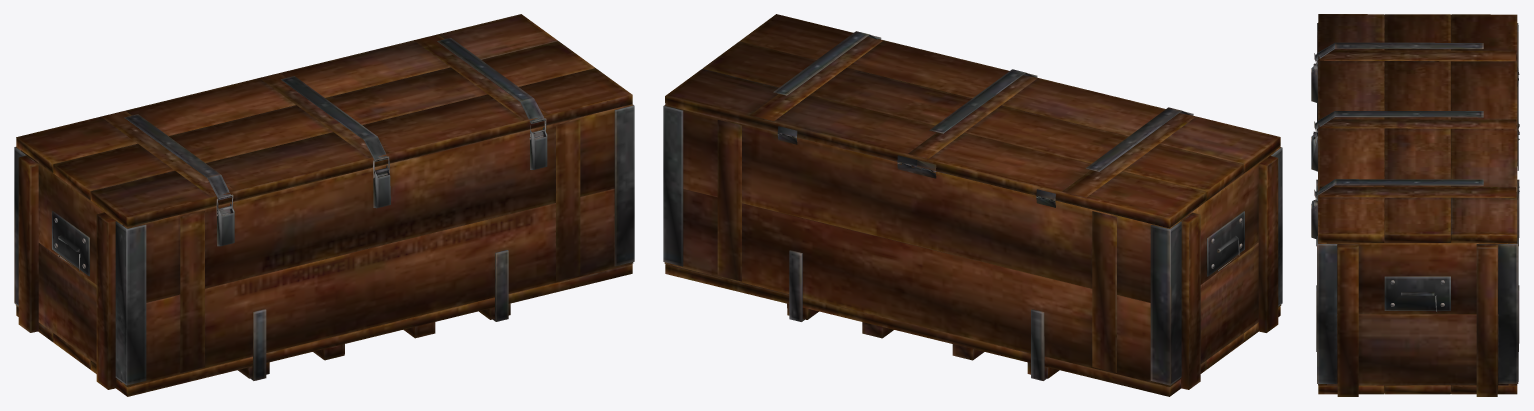
File: mil_crate2.glb
3 views of the same model, side by side, from view 1: azimuth 30°, elevation 25°; view 2: azimuth 150°, elevation 25°; view 3: azimuth 270°, elevation 25° (orthographic). The views are drawn at different scales.
Visible parts, largest first — view 1: wooden_military_crate; view 2: wooden_military_crate; view 3: wooden_military_crate.
Boxes of the visible parts, <box> form: wooden_military_crate: <box>14,14,634,396</box>; wooden_military_crate: <box>663,14,1282,396</box>; wooden_military_crate: <box>1311,14,1519,396</box>.
Bounding box in the file's own units: 1.24 × 0.4639 × 0.4801.
Materials: 1 (1 with a texture image).
